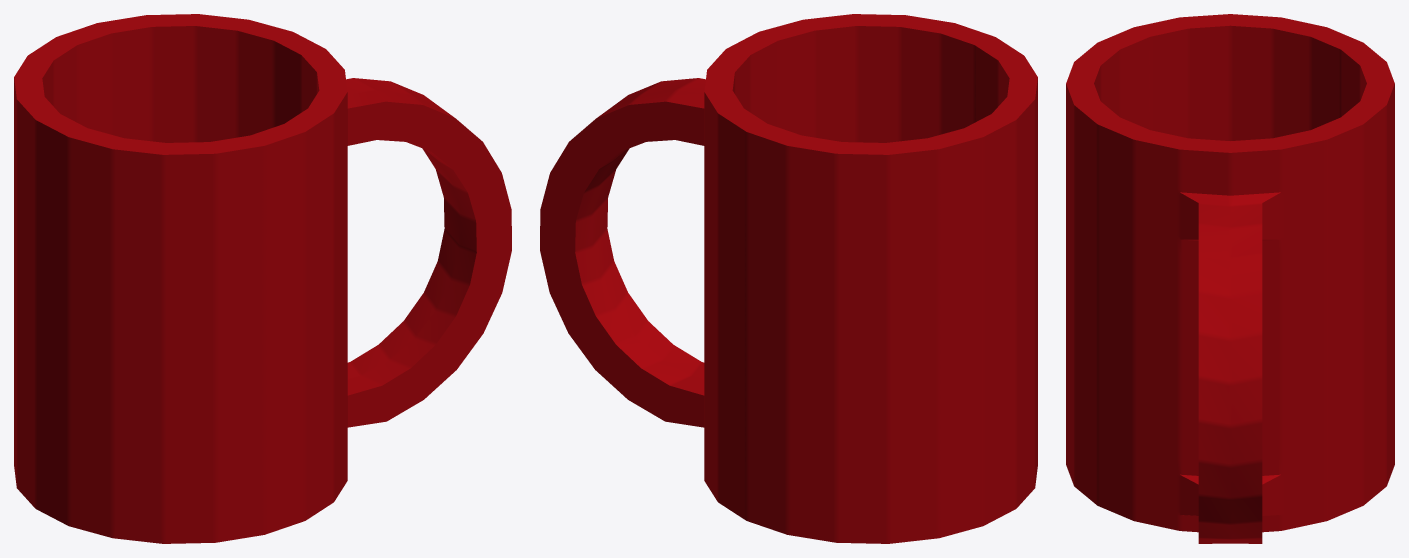
File: Caneca Duplas.glb
The picture shows the model from 3 angles, left to right: view 1: azimuth 30°, elevation 25°; view 2: azimuth 150°, elevation 25°; view 3: azimuth 270°, elevation 25°; orthographic projection.
Parts seen in each view (by area): view 1: Tasse; view 2: Tasse; view 3: Tasse.
Part boxes in pixels (x1,y1,x2,y2): Tasse: (14, 14, 511, 543); Tasse: (540, 14, 1037, 543); Tasse: (1066, 14, 1394, 543).
Size of the model in its own units: 3.17 by 2.56 by 2.
